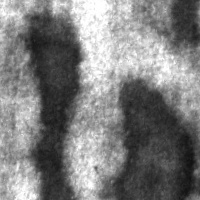patches: (10, 6, 94, 199), (105, 75, 199, 199), (170, 11, 199, 44)
